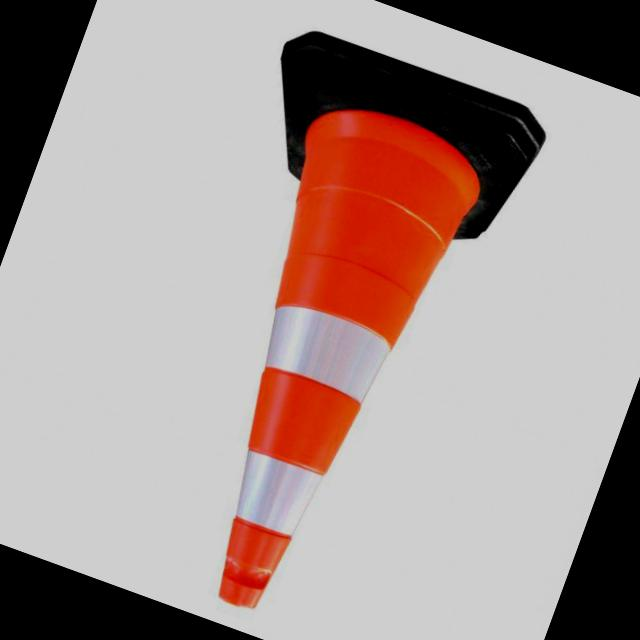cone: (96, 21, 558, 640)
